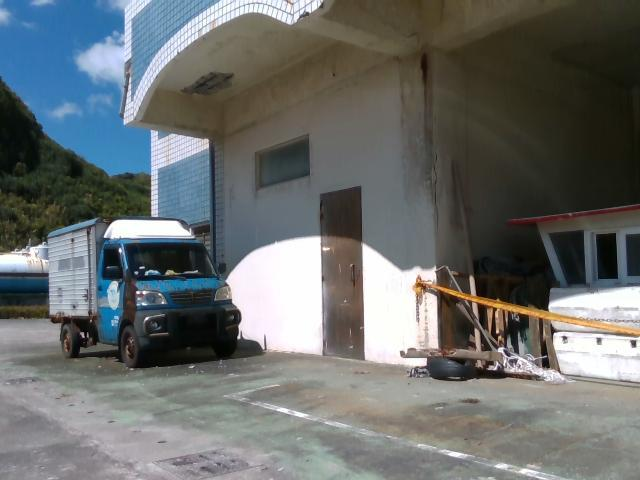pollute: (389, 199, 638, 387)
